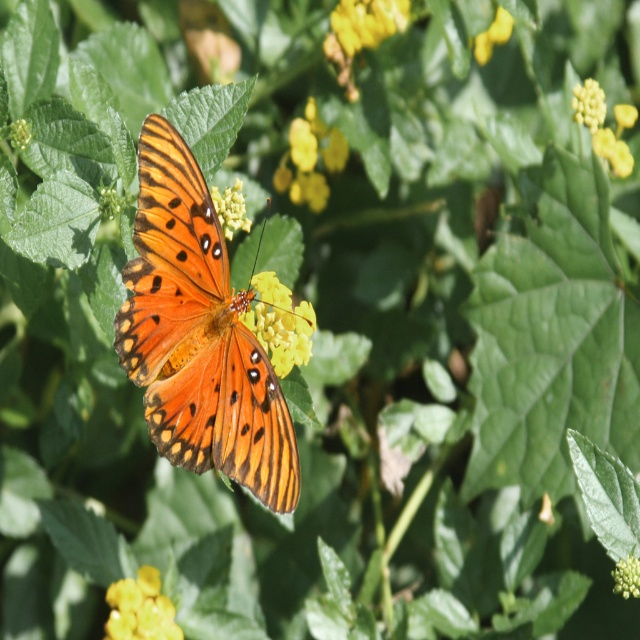Butterfly: (113, 113, 313, 516)
